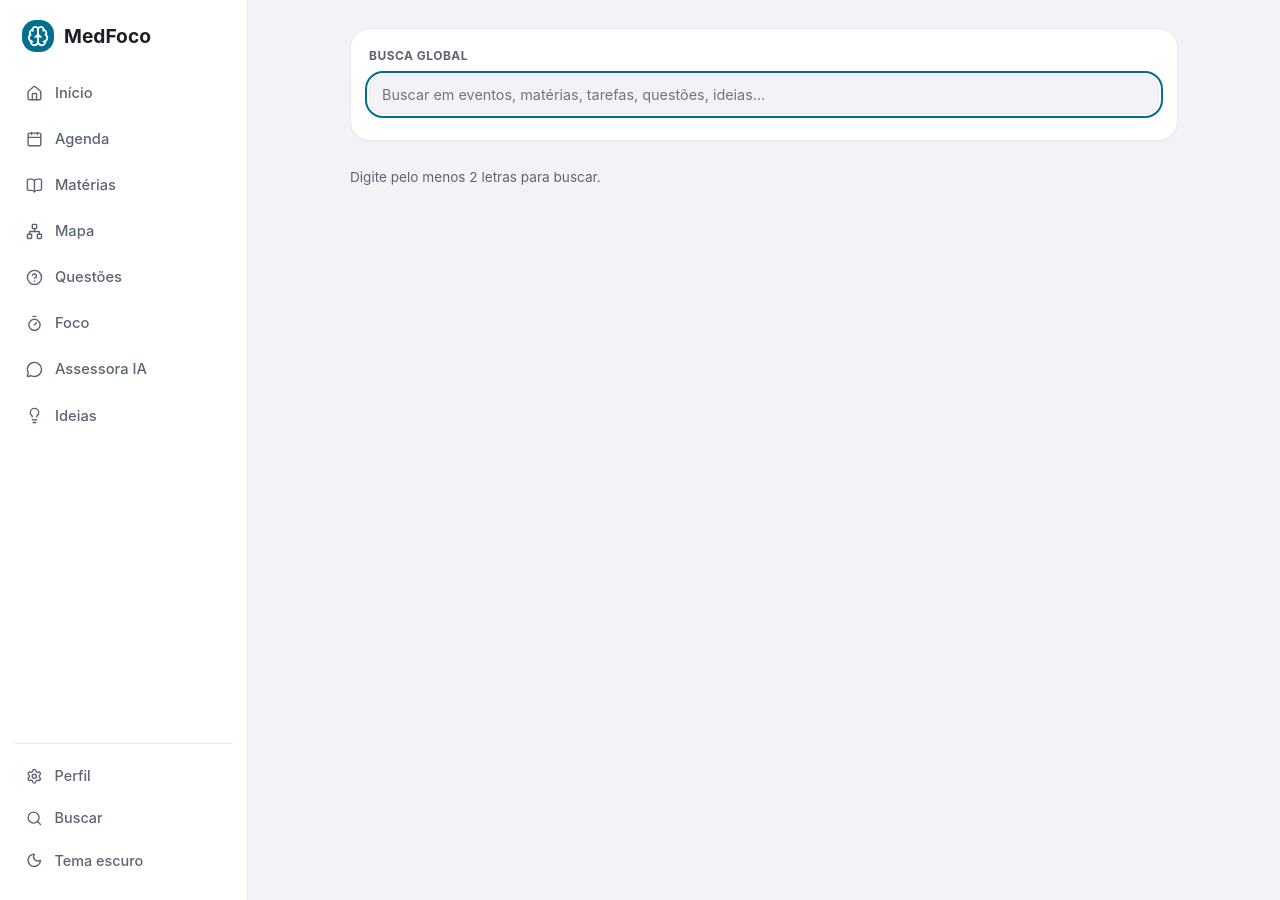
it: Busca › acha em todas as áreas, na ordem do app original, ignorando acento e maiúsculas
The image size is (1280, 900).
In the search field named "Texto da busca": (764, 94) [369,75,1159,114], type "CORACAO"
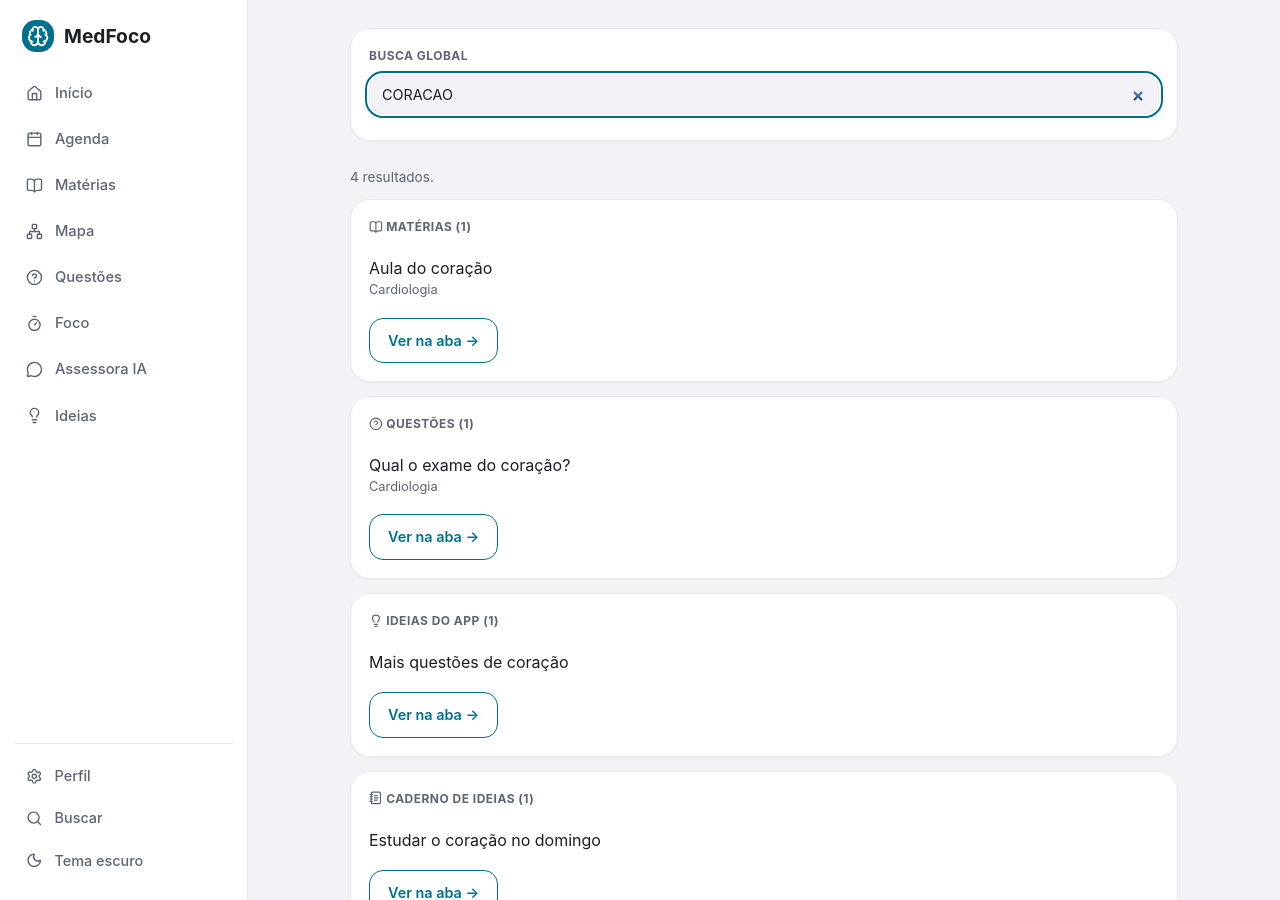
Now the message reads "4 resultados.", box [350,169,434,185]
Now the text "Aula do coração" is shown, box [369,258,492,278]
Now the text "Qual o exame do coração?" is shown, box [369,455,570,475]
